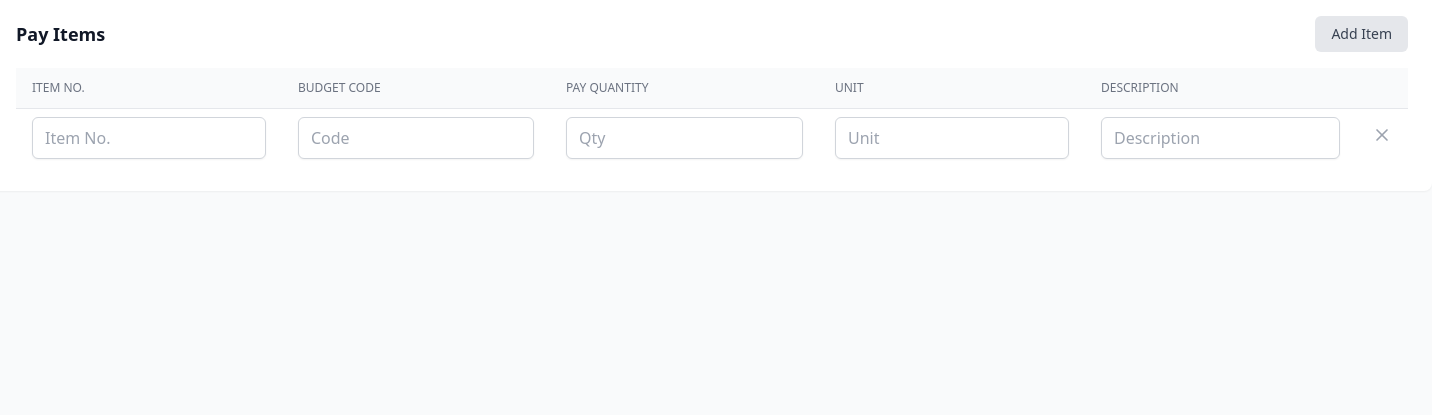
PayItemsSection — picker › clicking Item No. or Description opens the picker; other cells do not
Click the field with placeholder "Qty" at x=684, y=138, box [566,117,803,159]
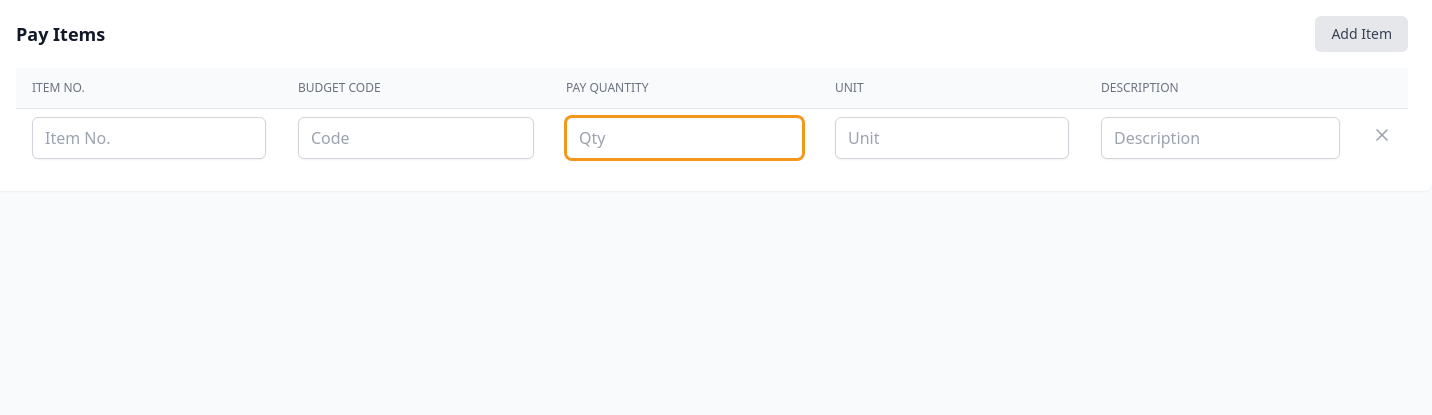
Click the field with placeholder "Unit" at x=952, y=138, box [835,117,1069,159]
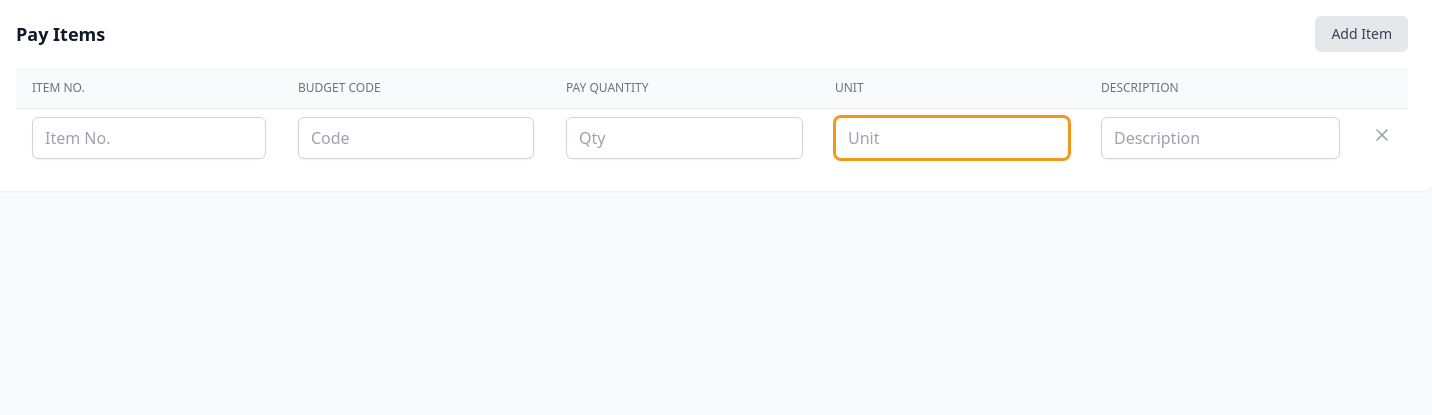
Click the field with placeholder "Code" at x=416, y=138, box [298,117,534,159]
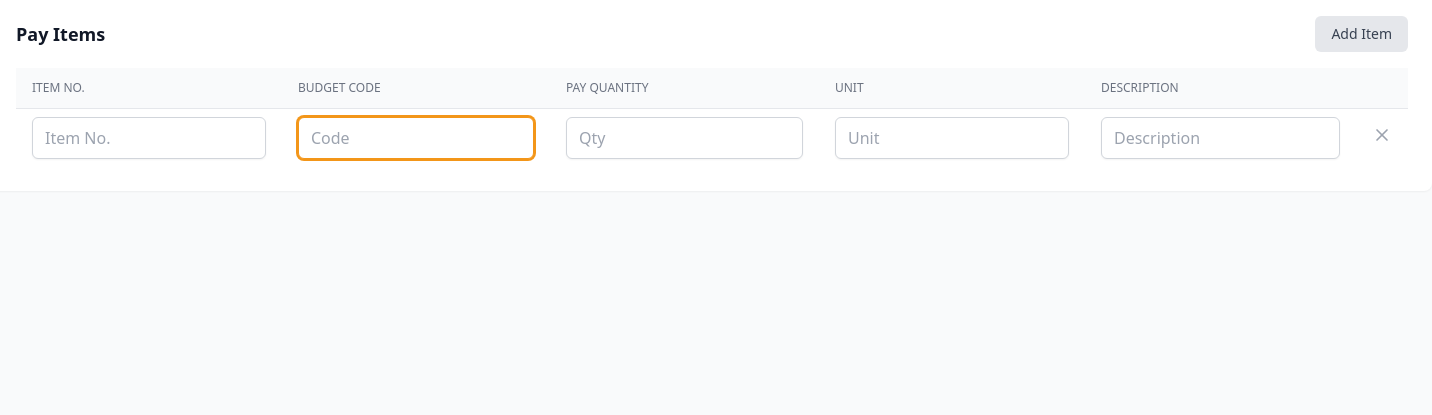
Click the field with placeholder "Description" at x=1220, y=138, box [1101,117,1340,159]
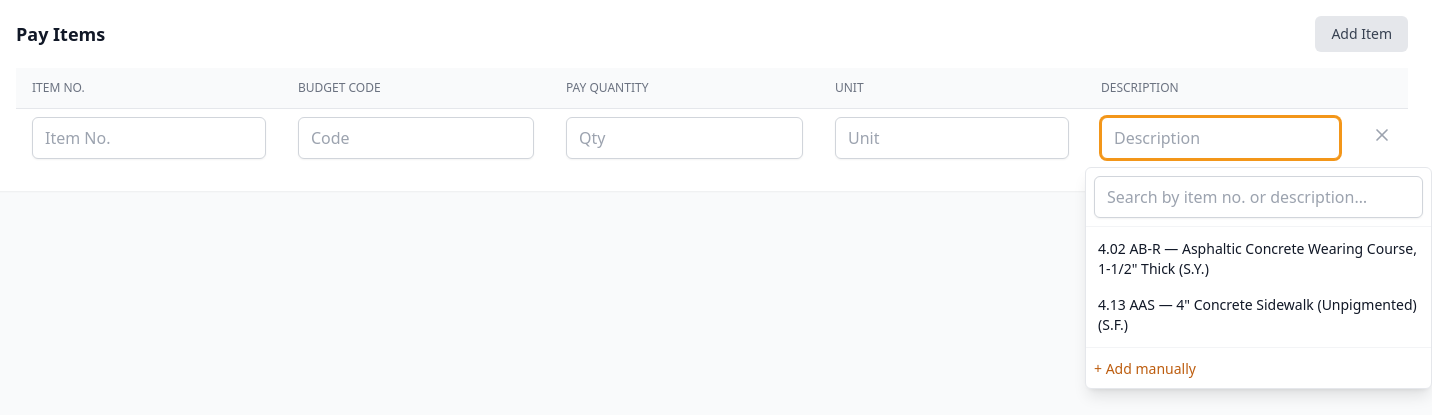
Expected: the element with test id "pay-item-picker" is shown, [1085,167,1431,389]
